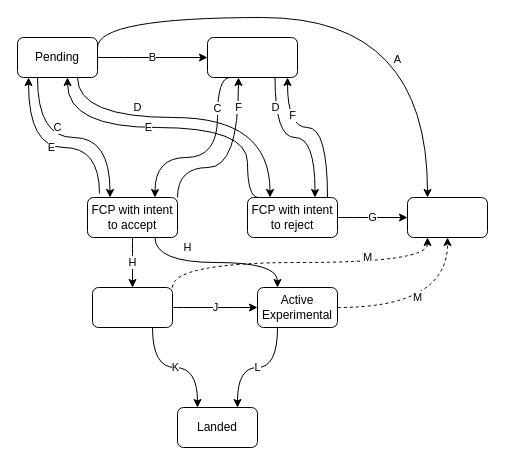
The diagram is 505 pixels wide and 465 high, and some of its shapes have lost their labels. Each missing label, with the centre of its shape:
"Active" goes at (132,307).
"Pre-acceptance Experimental" goes at (252,57).
"Rejected" goes at (447,217).
